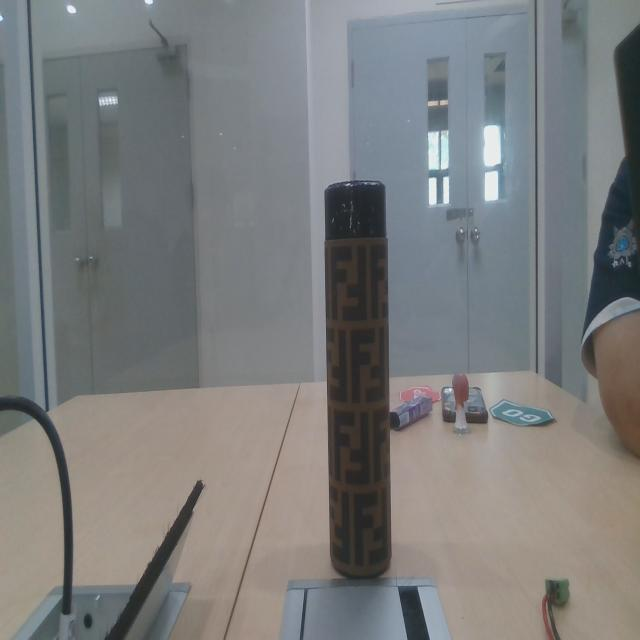Pole: (315, 172, 405, 598)
